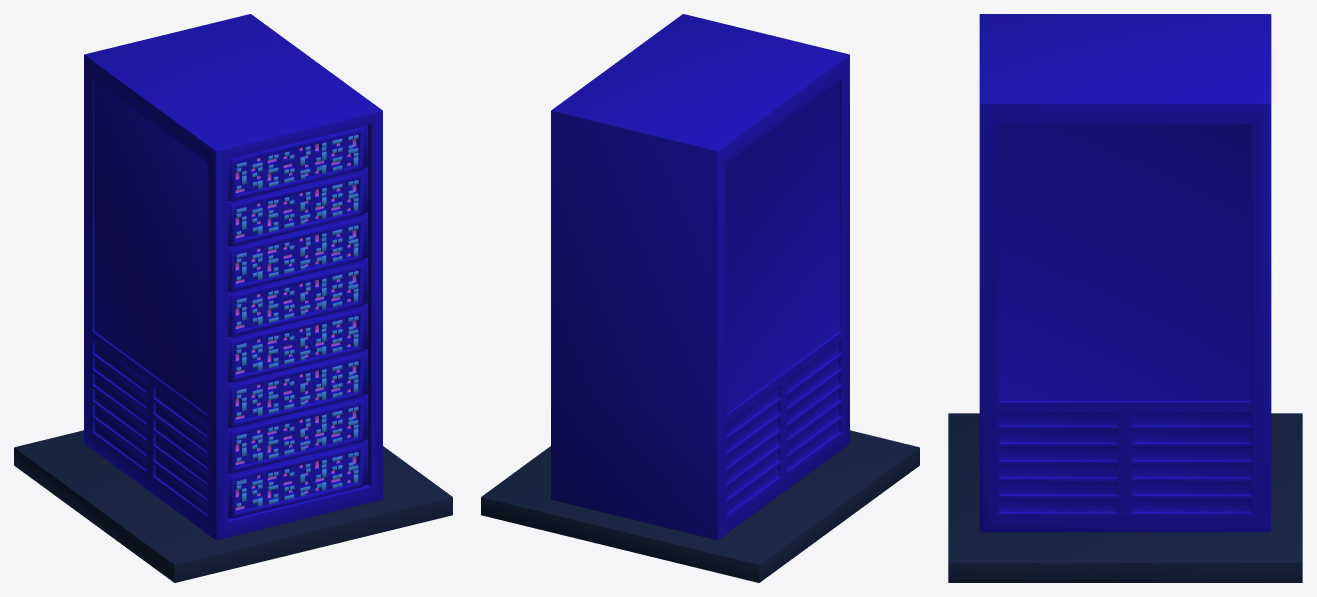
Rendered from Server_low.fbx.
3 views of the same model, side by side, from view 1: azimuth 30°, elevation 25°; view 2: azimuth 150°, elevation 25°; view 3: azimuth 270°, elevation 25° (orthographic). The views are drawn at different scales.
Visible parts, largest first — view 1: ServerRough_02; view 2: ServerRough_02; view 3: ServerRough_02.
Boxes of the visible parts, box(x1,y1,x2,y2) form: ServerRough_02: box(14, 14, 452, 582); ServerRough_02: box(481, 14, 919, 582); ServerRough_02: box(948, 14, 1302, 582).
Bounding box in the file's own units: 100 × 140 × 100.
